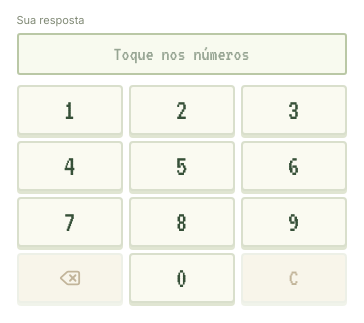
Test: teclado numérico do jogo › em tela de toque usa os botões e o campo não abre o teclado do sistema
Click the button "1".
click(70, 110)  # box [16,84,122,134]
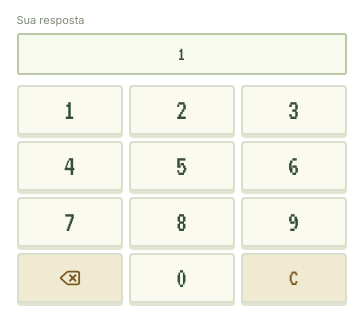
Click the button "8".
click(182, 222)  # box [128,196,234,246]
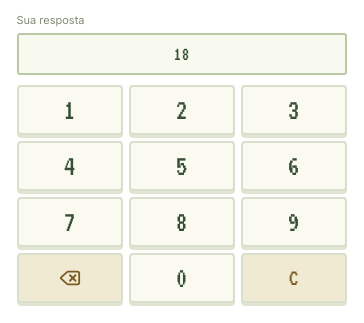
Now the field labelled "Sua resposta" holds "18", box [16,32,346,74]
Click the button named "Apagar o último número".
click(70, 278)  # box [16,252,122,302]
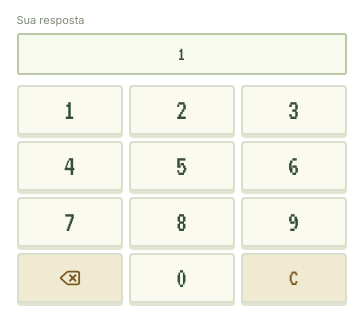
Now the field labelled "Sua resposta" holds "1", box [16,32,346,74]
Click the button named "Limpar a resposta".
click(294, 278)  # box [240,252,346,302]
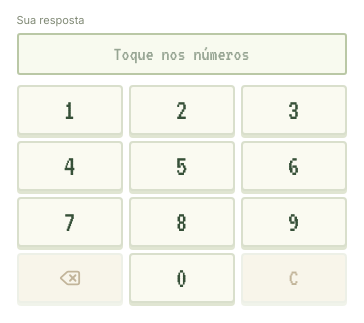
Now the field labelled "Sua resposta" is empty, box [16,32,346,74]
